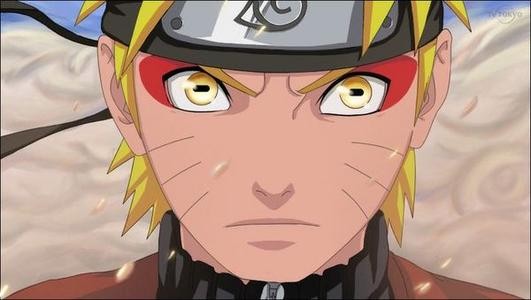naruto: (98, 2, 461, 282)
